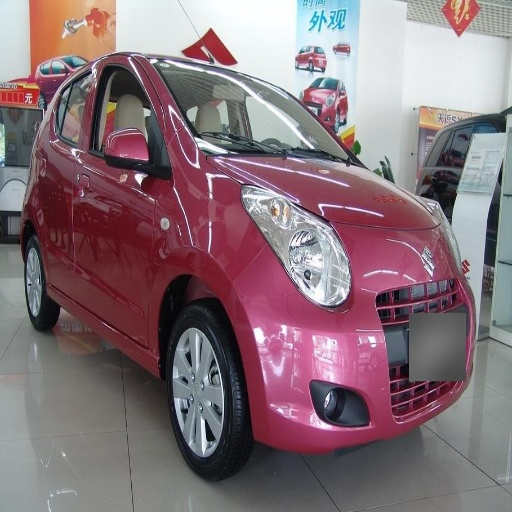back_right_door: (42, 64, 100, 296)
front_bumper: (237, 276, 406, 452)
front_right_door: (76, 60, 170, 345)
front_right_light: (242, 185, 351, 307)
tailgate: (363, 220, 448, 323)
trunk: (359, 270, 465, 383)
